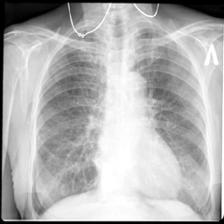tuberculosis: (29, 18, 216, 222)
